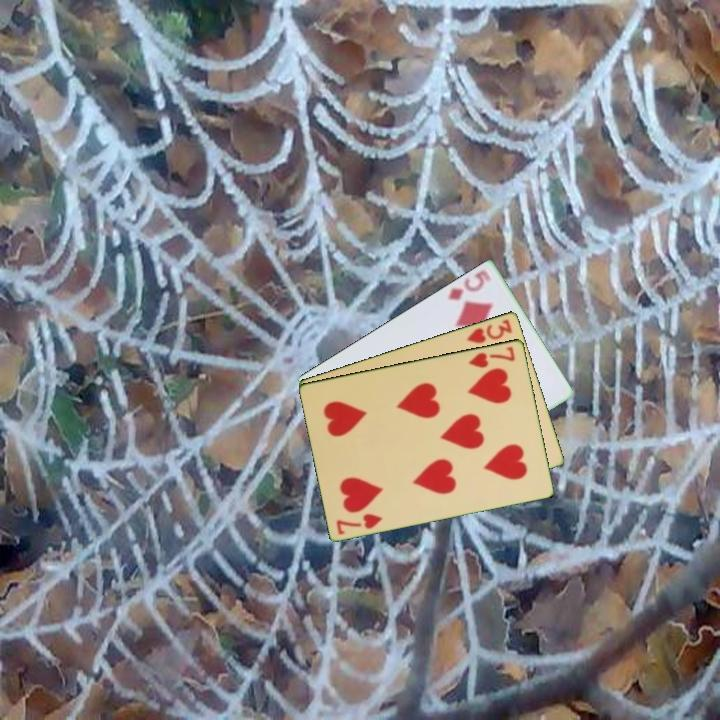3h: (463, 315, 515, 346)
5d: (444, 266, 494, 303)
7h: (465, 342, 518, 370), (333, 510, 386, 537)
